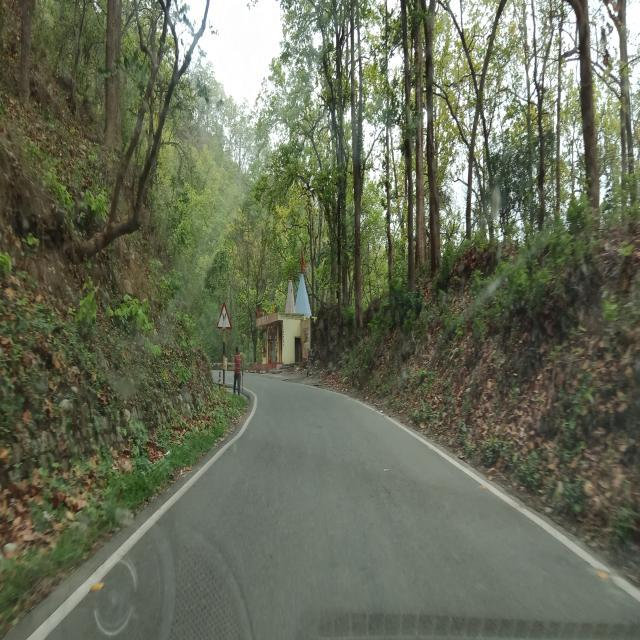narrow bridge ahead: (217, 302, 233, 330)
